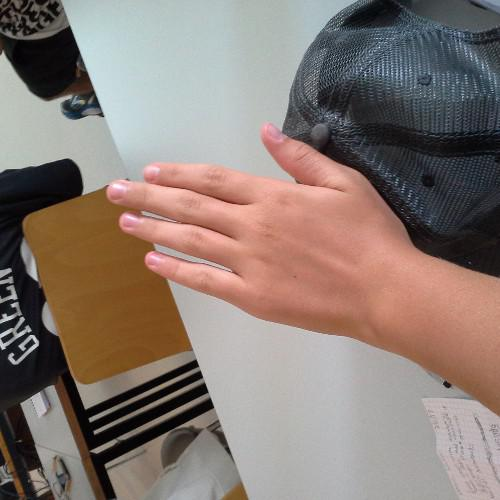paper: (95, 115, 459, 355)
